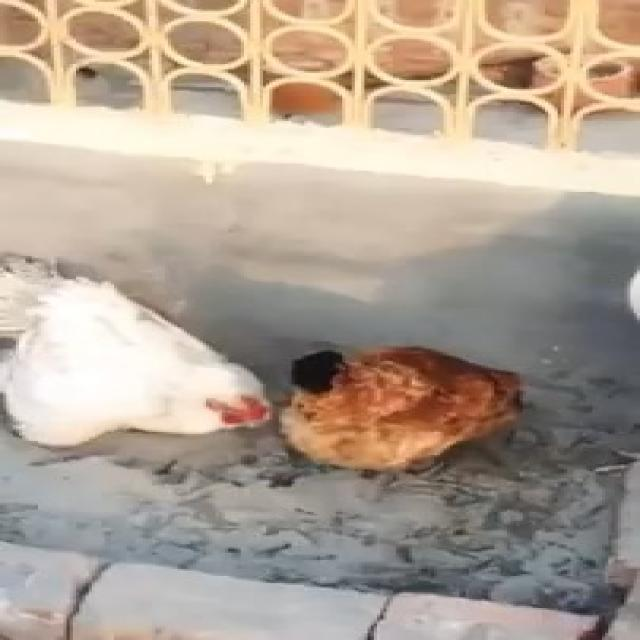stand bath: (0, 249, 285, 459), (270, 322, 532, 487)
